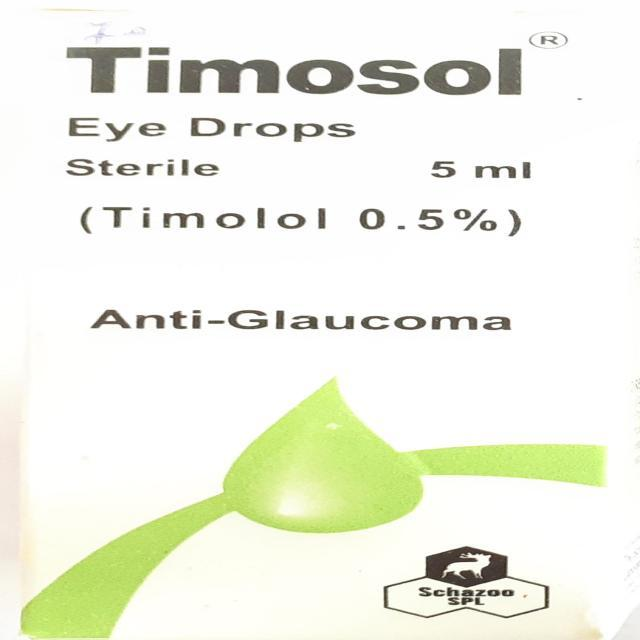drug-name: (64, 42, 528, 102)
